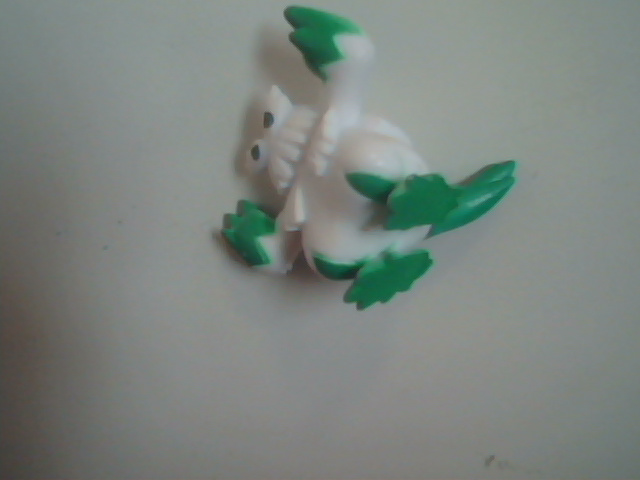abomasnow: (177, 10, 546, 348)
